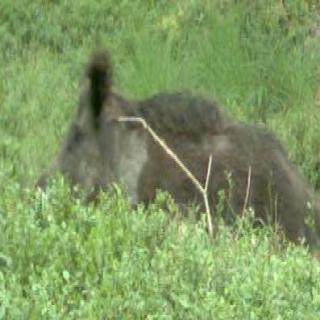Pig: (39, 34, 320, 263)
